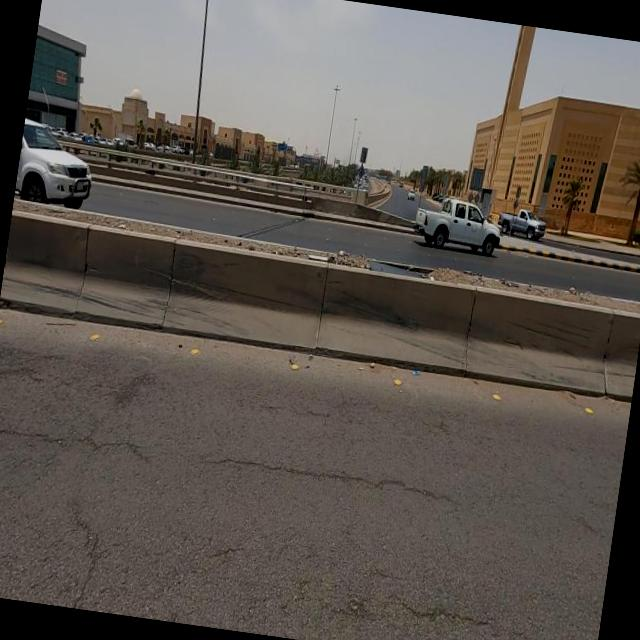debris: (347, 222, 462, 314), (293, 222, 367, 285)
